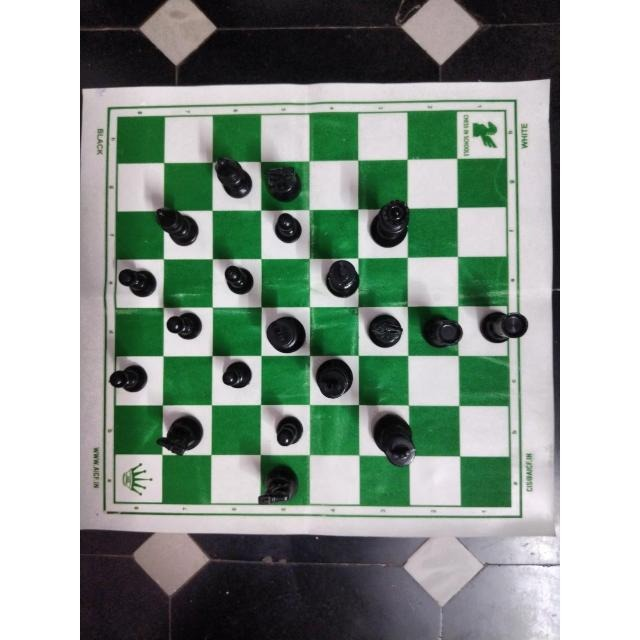black-bishop: (152, 202, 204, 250), (211, 153, 256, 201)
black-king: (368, 408, 420, 473), (312, 355, 358, 404), (263, 311, 309, 359), (319, 258, 363, 298)
black-knight: (255, 460, 311, 510), (156, 413, 208, 461), (260, 155, 310, 204), (360, 308, 408, 351)
black-pawn: (113, 260, 160, 299), (104, 361, 152, 395), (270, 411, 307, 452), (215, 261, 259, 295), (164, 309, 205, 345), (218, 358, 258, 394), (270, 210, 307, 244)
black-queen: (369, 195, 411, 251)
black-rook: (477, 306, 535, 349), (420, 309, 465, 355)
